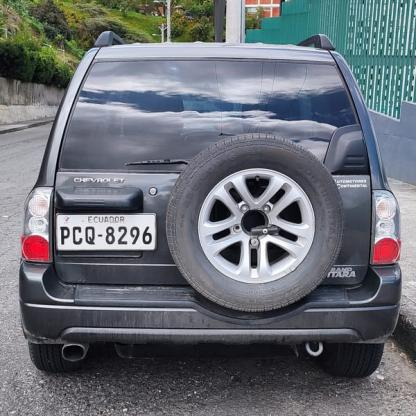Placa: (56, 215, 154, 251)
